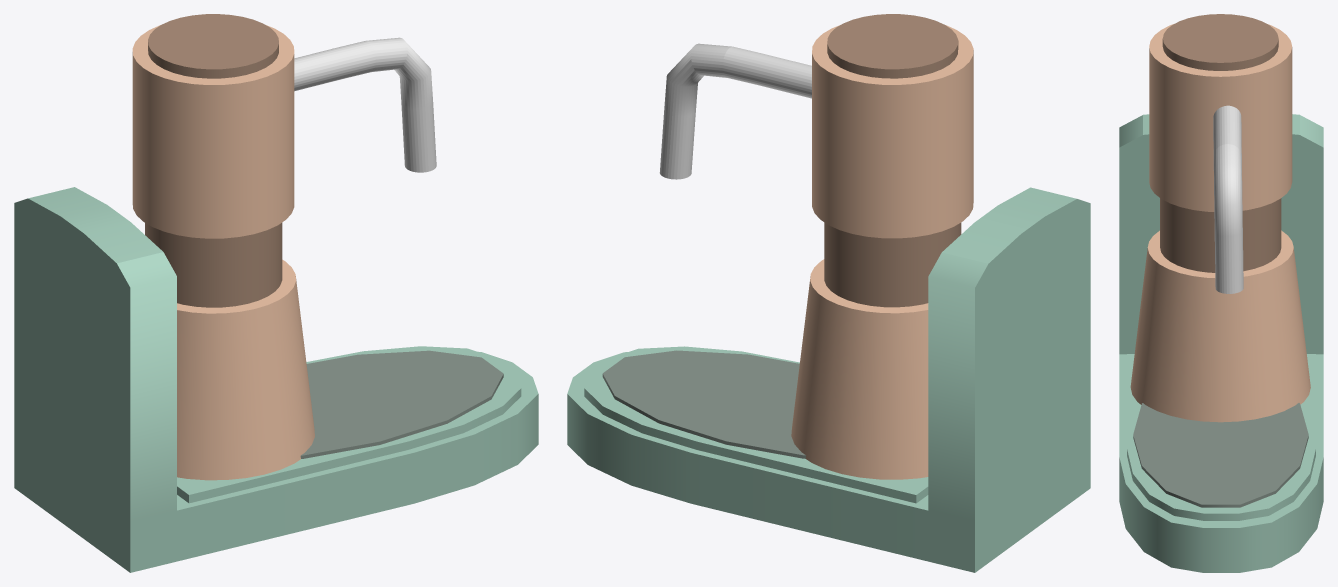
File: SyrupMachineCM.fbx
3 views of the same model, side by side, from view 1: azimuth 30°, elevation 25°; view 2: azimuth 150°, elevation 25°; view 3: azimuth 270°, elevation 25° (orthographic). The views are drawn at different scales.
Visible parts, largest first — view 1: Cube.004, Cylinder.011, Cylinder.013, Circle.001, Cylinder.012, Cylinder.014, Cylinder.005; view 2: Cube.004, Cylinder.011, Cylinder.013, Circle.001, Cylinder.012, Cylinder.014, Cylinder.005; view 3: Cube.004, Cylinder.013, Cylinder.011, Circle.001, Cylinder.012, Cylinder.005, Cylinder.014.
Part boxes in pixels (bbox=[...]): Cube.004: bbox=[14, 187, 538, 572]; Cylinder.011: bbox=[132, 25, 294, 238]; Cylinder.013: bbox=[177, 259, 314, 480]; Circle.001: bbox=[300, 350, 503, 458]; Cylinder.012: bbox=[145, 222, 282, 307]; Cylinder.014: bbox=[294, 37, 436, 172]; Cylinder.005: bbox=[148, 14, 278, 78]; Cube.004: bbox=[567, 187, 1090, 572]; Cylinder.011: bbox=[812, 25, 973, 238]; Cylinder.013: bbox=[791, 259, 928, 479]; Circle.001: bbox=[602, 350, 806, 458]; Cylinder.012: bbox=[824, 222, 961, 307]; Cylinder.014: bbox=[659, 43, 811, 179]; Cylinder.005: bbox=[827, 14, 958, 78]; Cube.004: bbox=[1119, 114, 1323, 572]; Cylinder.013: bbox=[1130, 230, 1310, 422]; Cylinder.011: bbox=[1149, 24, 1292, 211]; Circle.001: bbox=[1133, 403, 1308, 507]; Cylinder.012: bbox=[1160, 198, 1281, 272]; Cylinder.005: bbox=[1162, 14, 1278, 70]; Cylinder.014: bbox=[1213, 105, 1243, 293].
Bounding box in the file's own units: 567 × 547 × 253.
